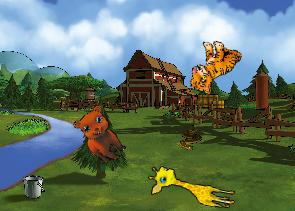bear: (67, 100, 137, 168)
giraffe: (145, 163, 239, 210)
tiger: (186, 36, 243, 99)
